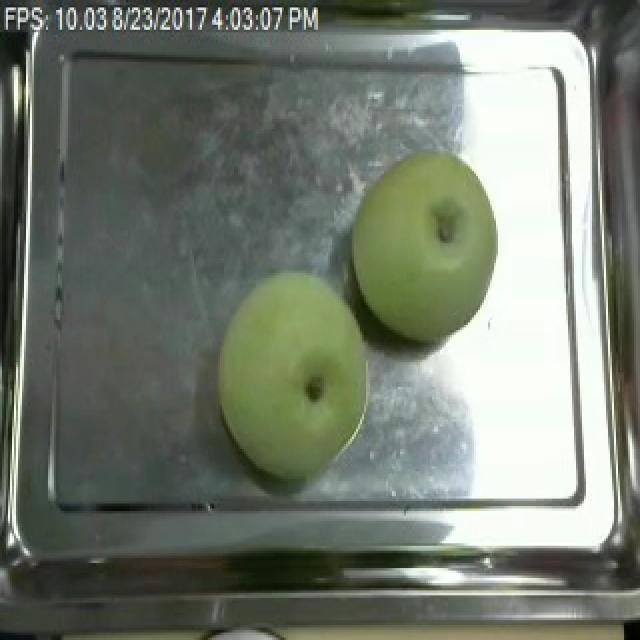50-_ripeness: (204, 266, 378, 480), (350, 131, 506, 356)
